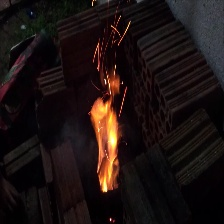fire: (82, 61, 132, 199)
